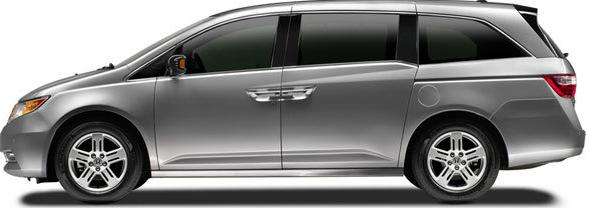backlight: (544, 62, 582, 110)
headlight: (0, 91, 52, 138)
side_glass: (154, 7, 422, 84)
